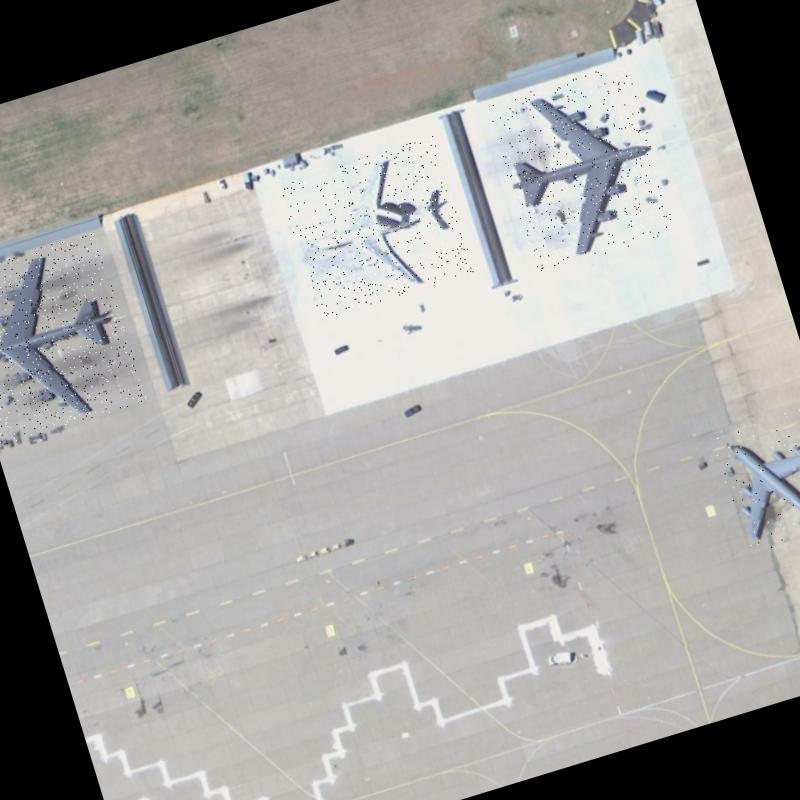A14: (709, 401, 800, 560)
A7: (278, 136, 476, 321)
A8: (485, 62, 678, 274), (0, 231, 147, 447)
